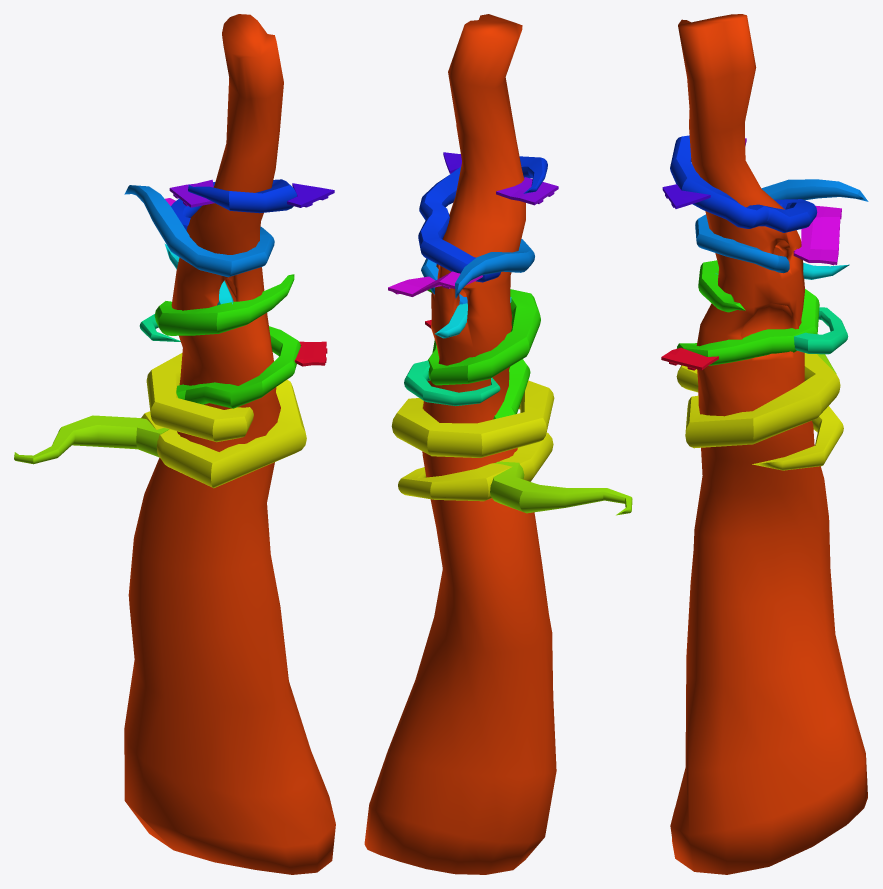
Rendered from NIVEL1_LUCES_arbol.fbx.
The picture shows the model from 3 angles, left to right: view 1: azimuth 30°, elevation 25°; view 2: azimuth 150°, elevation 25°; view 3: azimuth 270°, elevation 25°; orthographic projection. The views are drawn at different scales.
Parts seen in each view (by area): view 1: arbol, rama, rama.002, rama.005, rama.001, rama.006, plat.003, plat, plat.001; view 2: arbol, rama, rama.002, rama.006, rama.001, rama.005, rama.003, plat.002, plat.001, rama.004; view 3: arbol, rama, rama.006, rama.002, rama.005, plat.002, rama.003, plat.003, plat, rama.004.
Part boxes in pixels (x1=…): arbol: x1=124, y1=14, x2=335, y2=874; rama: x1=141, y1=353, x2=306, y2=488; rama.002: x1=154, y1=274, x2=300, y2=408; rama.005: x1=124, y1=185, x2=274, y2=277; rama.001: x1=14, y1=415, x2=169, y2=464; rama.006: x1=171, y1=179, x2=296, y2=230; plat.003: x1=294, y1=341, x2=327, y2=366; plat: x1=287, y1=183, x2=334, y2=207; plat.001: x1=169, y1=179, x2=214, y2=207; arbol: x1=364, y1=14, x2=556, y2=874; rama: x1=391, y1=380, x2=554, y2=501; rama.002: x1=427, y1=289, x2=540, y2=419; rama.006: x1=418, y1=156, x2=547, y2=282; rama.001: x1=490, y1=461, x2=632, y2=515; rama.005: x1=421, y1=239, x2=534, y2=304; rama.003: x1=404, y1=360, x2=500, y2=406; plat.002: x1=388, y1=271, x2=482, y2=296; plat.001: x1=496, y1=177, x2=558, y2=205; rama.004: x1=435, y1=297, x2=511, y2=338; arbol: x1=670, y1=14, x2=867, y2=874; rama: x1=676, y1=353, x2=843, y2=470; rama.006: x1=670, y1=135, x2=817, y2=232; rama.002: x1=676, y1=260, x2=819, y2=365; rama.005: x1=695, y1=179, x2=868, y2=273; plat.002: x1=793, y1=205, x2=841, y2=265; rama.003: x1=794, y1=307, x2=848, y2=354; plat.003: x1=661, y1=348, x2=718, y2=370; plat: x1=662, y1=184, x2=710, y2=208; rama.004: x1=715, y1=263, x2=849, y2=279.
Bounding box in the file's own units: 1490 × 4284 × 978.
